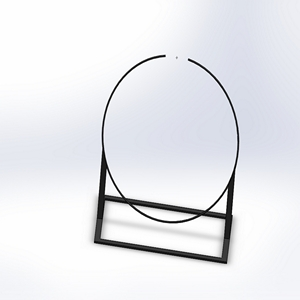circle: (93, 52, 241, 266)
